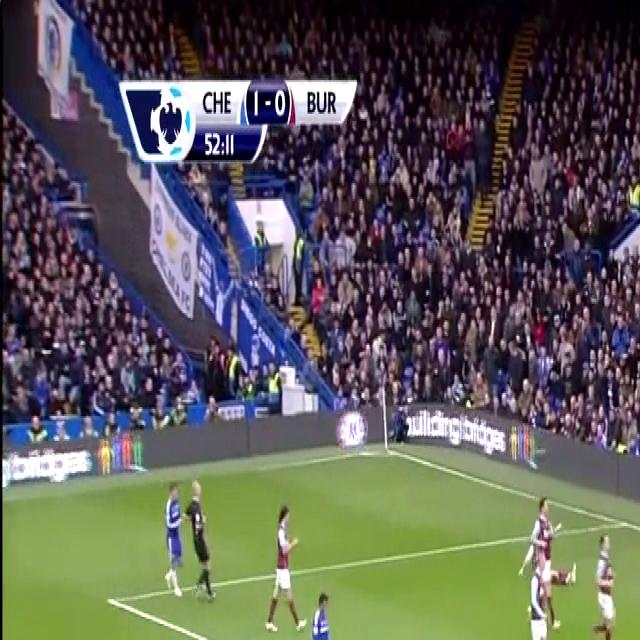referee: (187, 471, 220, 614)
soccer-player: (257, 492, 303, 640), (518, 487, 559, 595), (158, 472, 191, 600), (586, 530, 623, 640), (516, 556, 557, 640), (303, 585, 340, 640)
